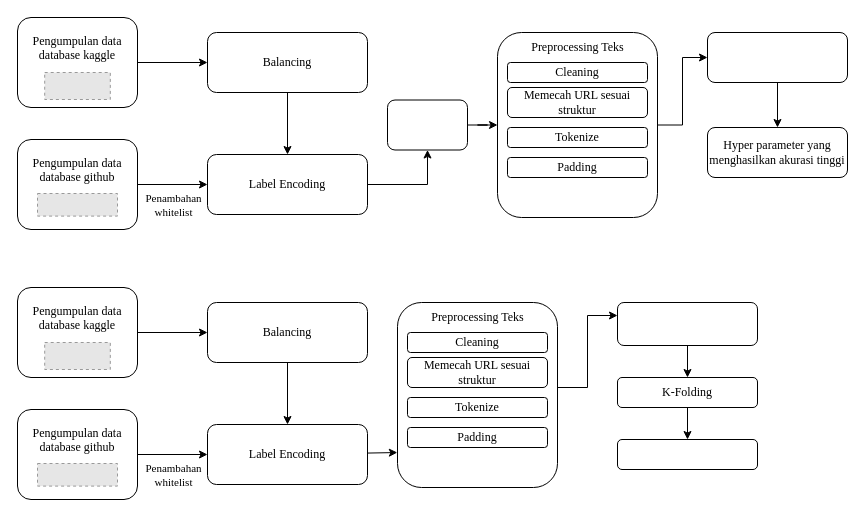
Image size: 865x517. Some labels were removed from this diagram. Grey dashed boxes stand in for pictures. The shapes that lost their labels are listed below. From the top down, each one's centre as x and y in pixels, then its label:
At point (777, 57): "Percobaan sesuai skenario pengujian".
At point (427, 124): "Split data".
At point (687, 324): "Pelatihan Model Dengan K-Fold".
At point (687, 454): "Analisis hasil".
